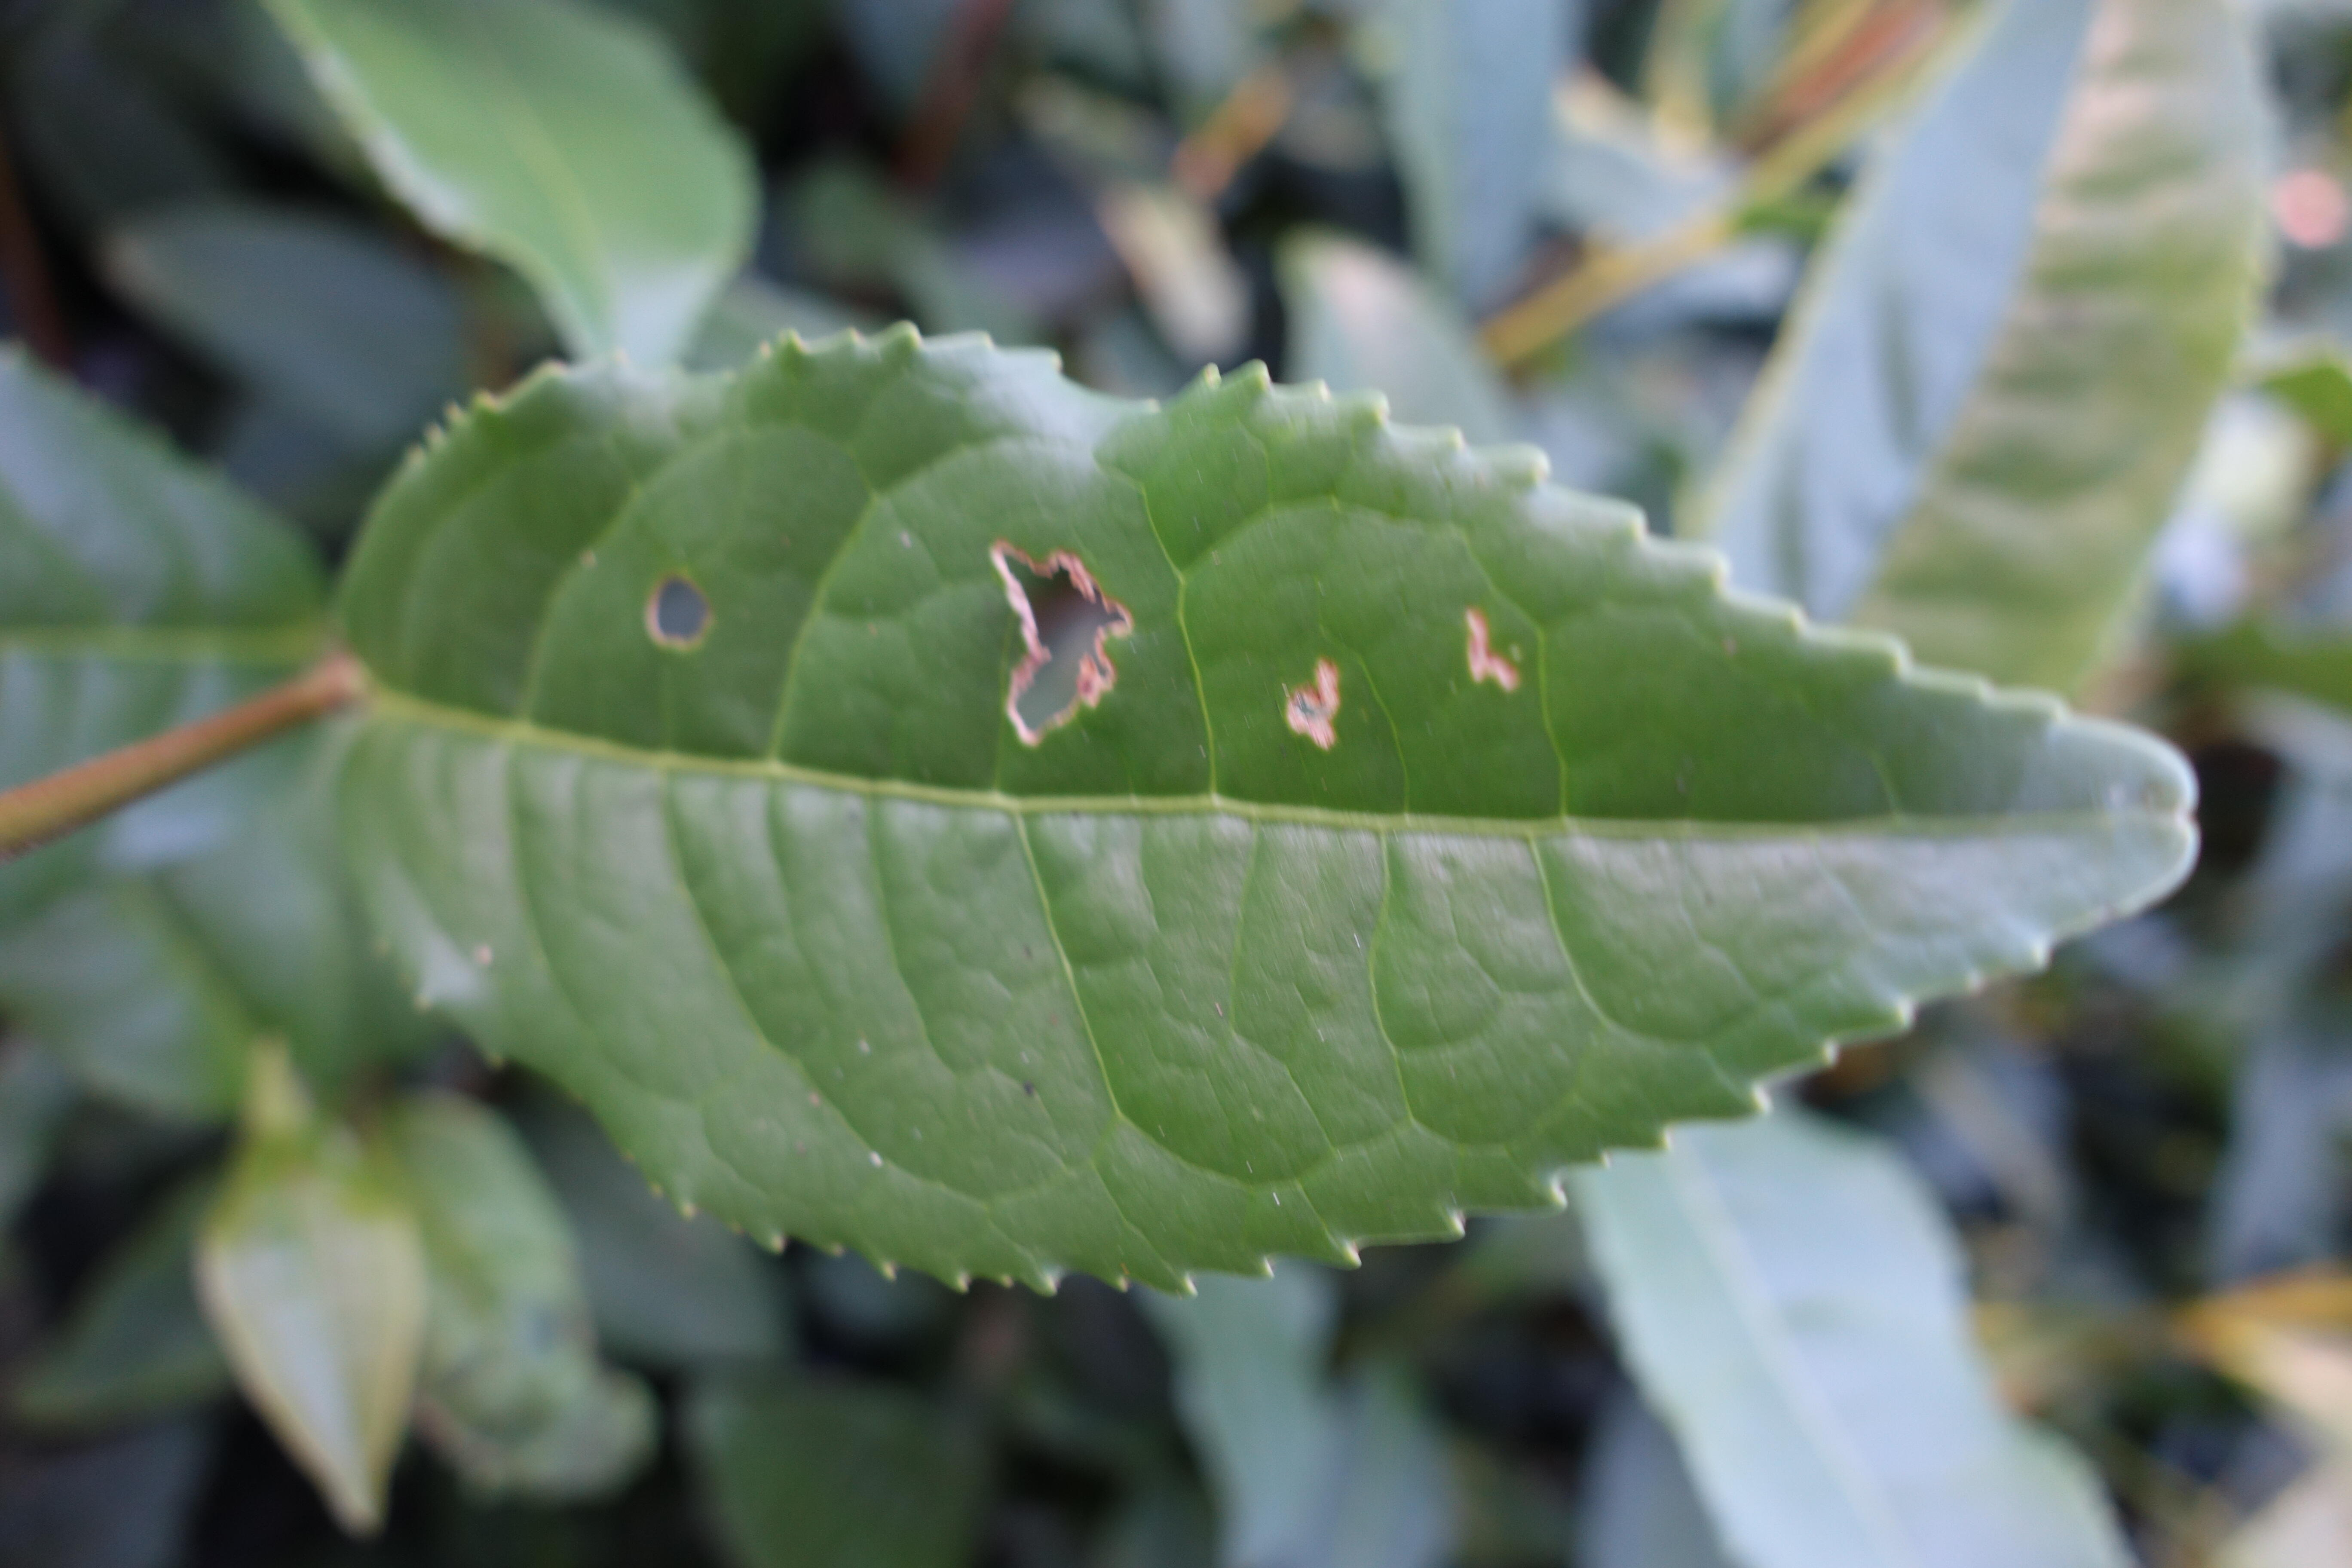chihuo_high: (310, 318, 2207, 1290)
